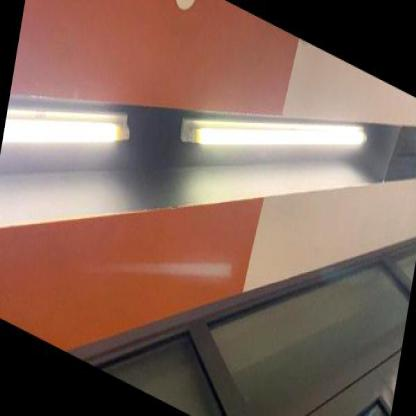light_on: (171, 28, 378, 251), (0, 43, 150, 220)
